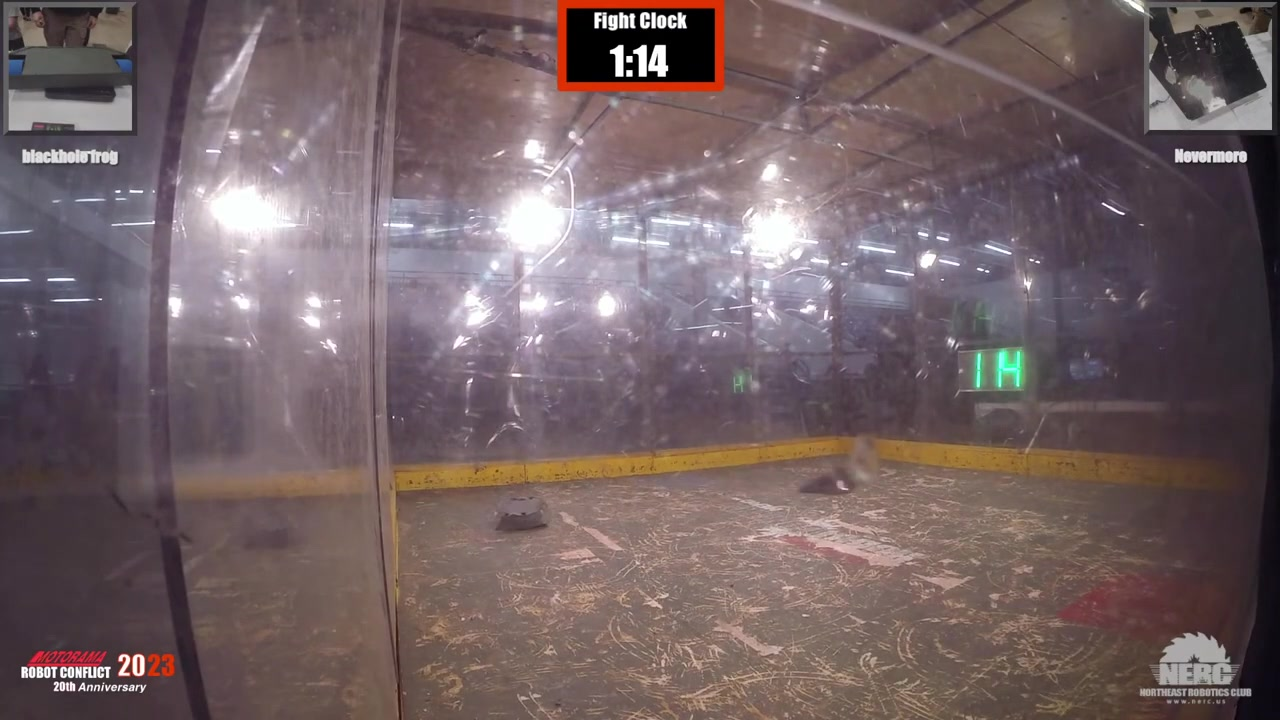combatbot: (498, 490, 552, 532), (804, 469, 859, 498)
